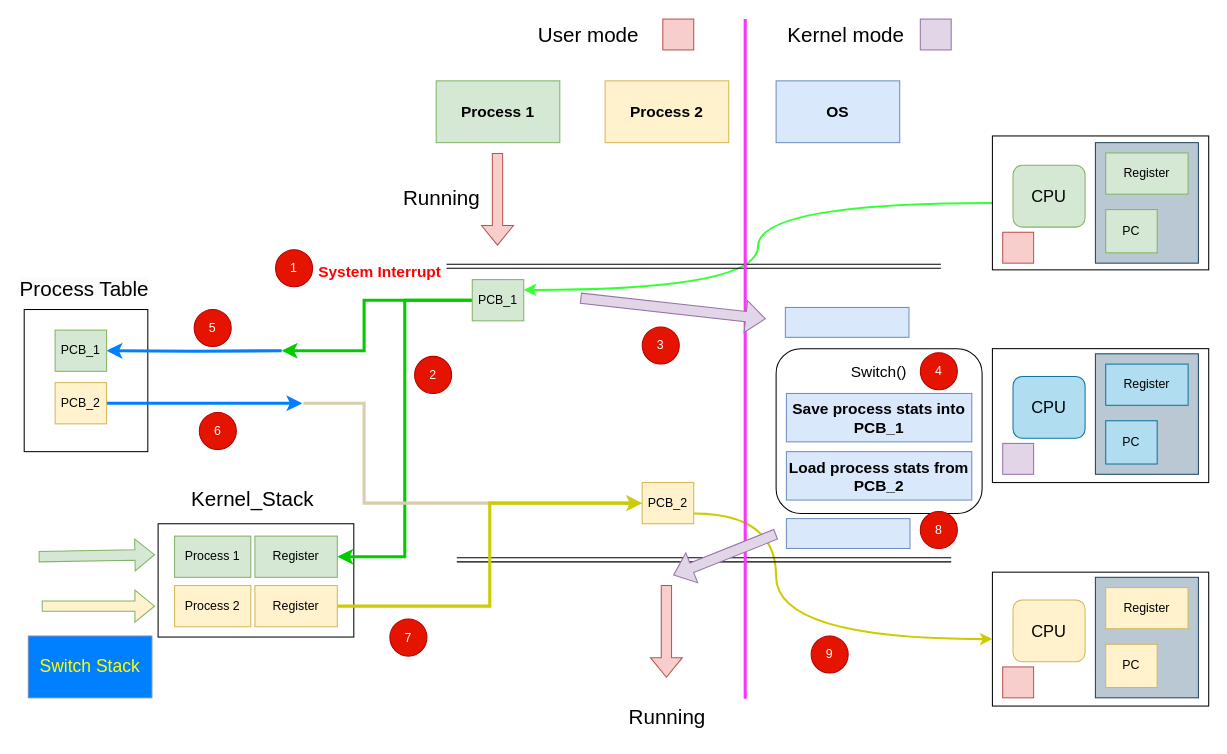
The diagram is 1227 pixels wide and 754 high, and some of its shapes have lost their labels. Each missing label, with the centre of its shape:
"Handle the trap" goes at pixel 846 321.
"return-from-trap" goes at pixel 847 533.
